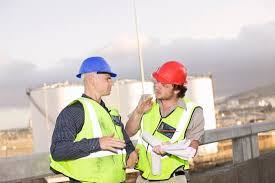helmet: (158, 58, 190, 85), (79, 58, 120, 77)
vest: (65, 100, 129, 181), (140, 95, 195, 180)
